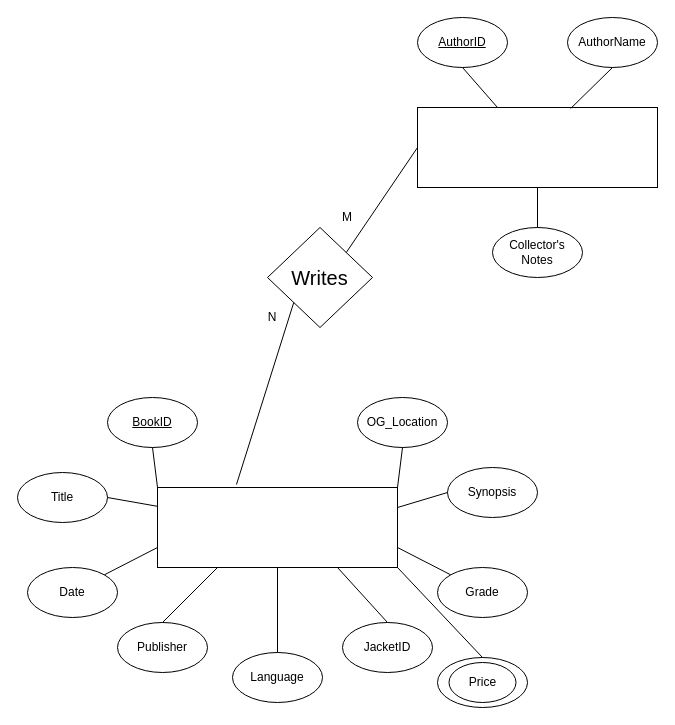
The diagram is 675 pixels wide and 725 high, and some of its shapes have lost their labels. The centre of each missing label's shape, as x and y in pixels:
Author: the point at 537,147
Book: the point at 277,527
